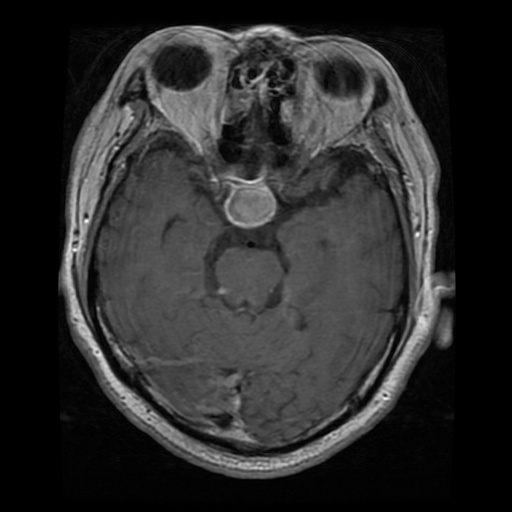pituitary: (225, 185, 277, 226)
